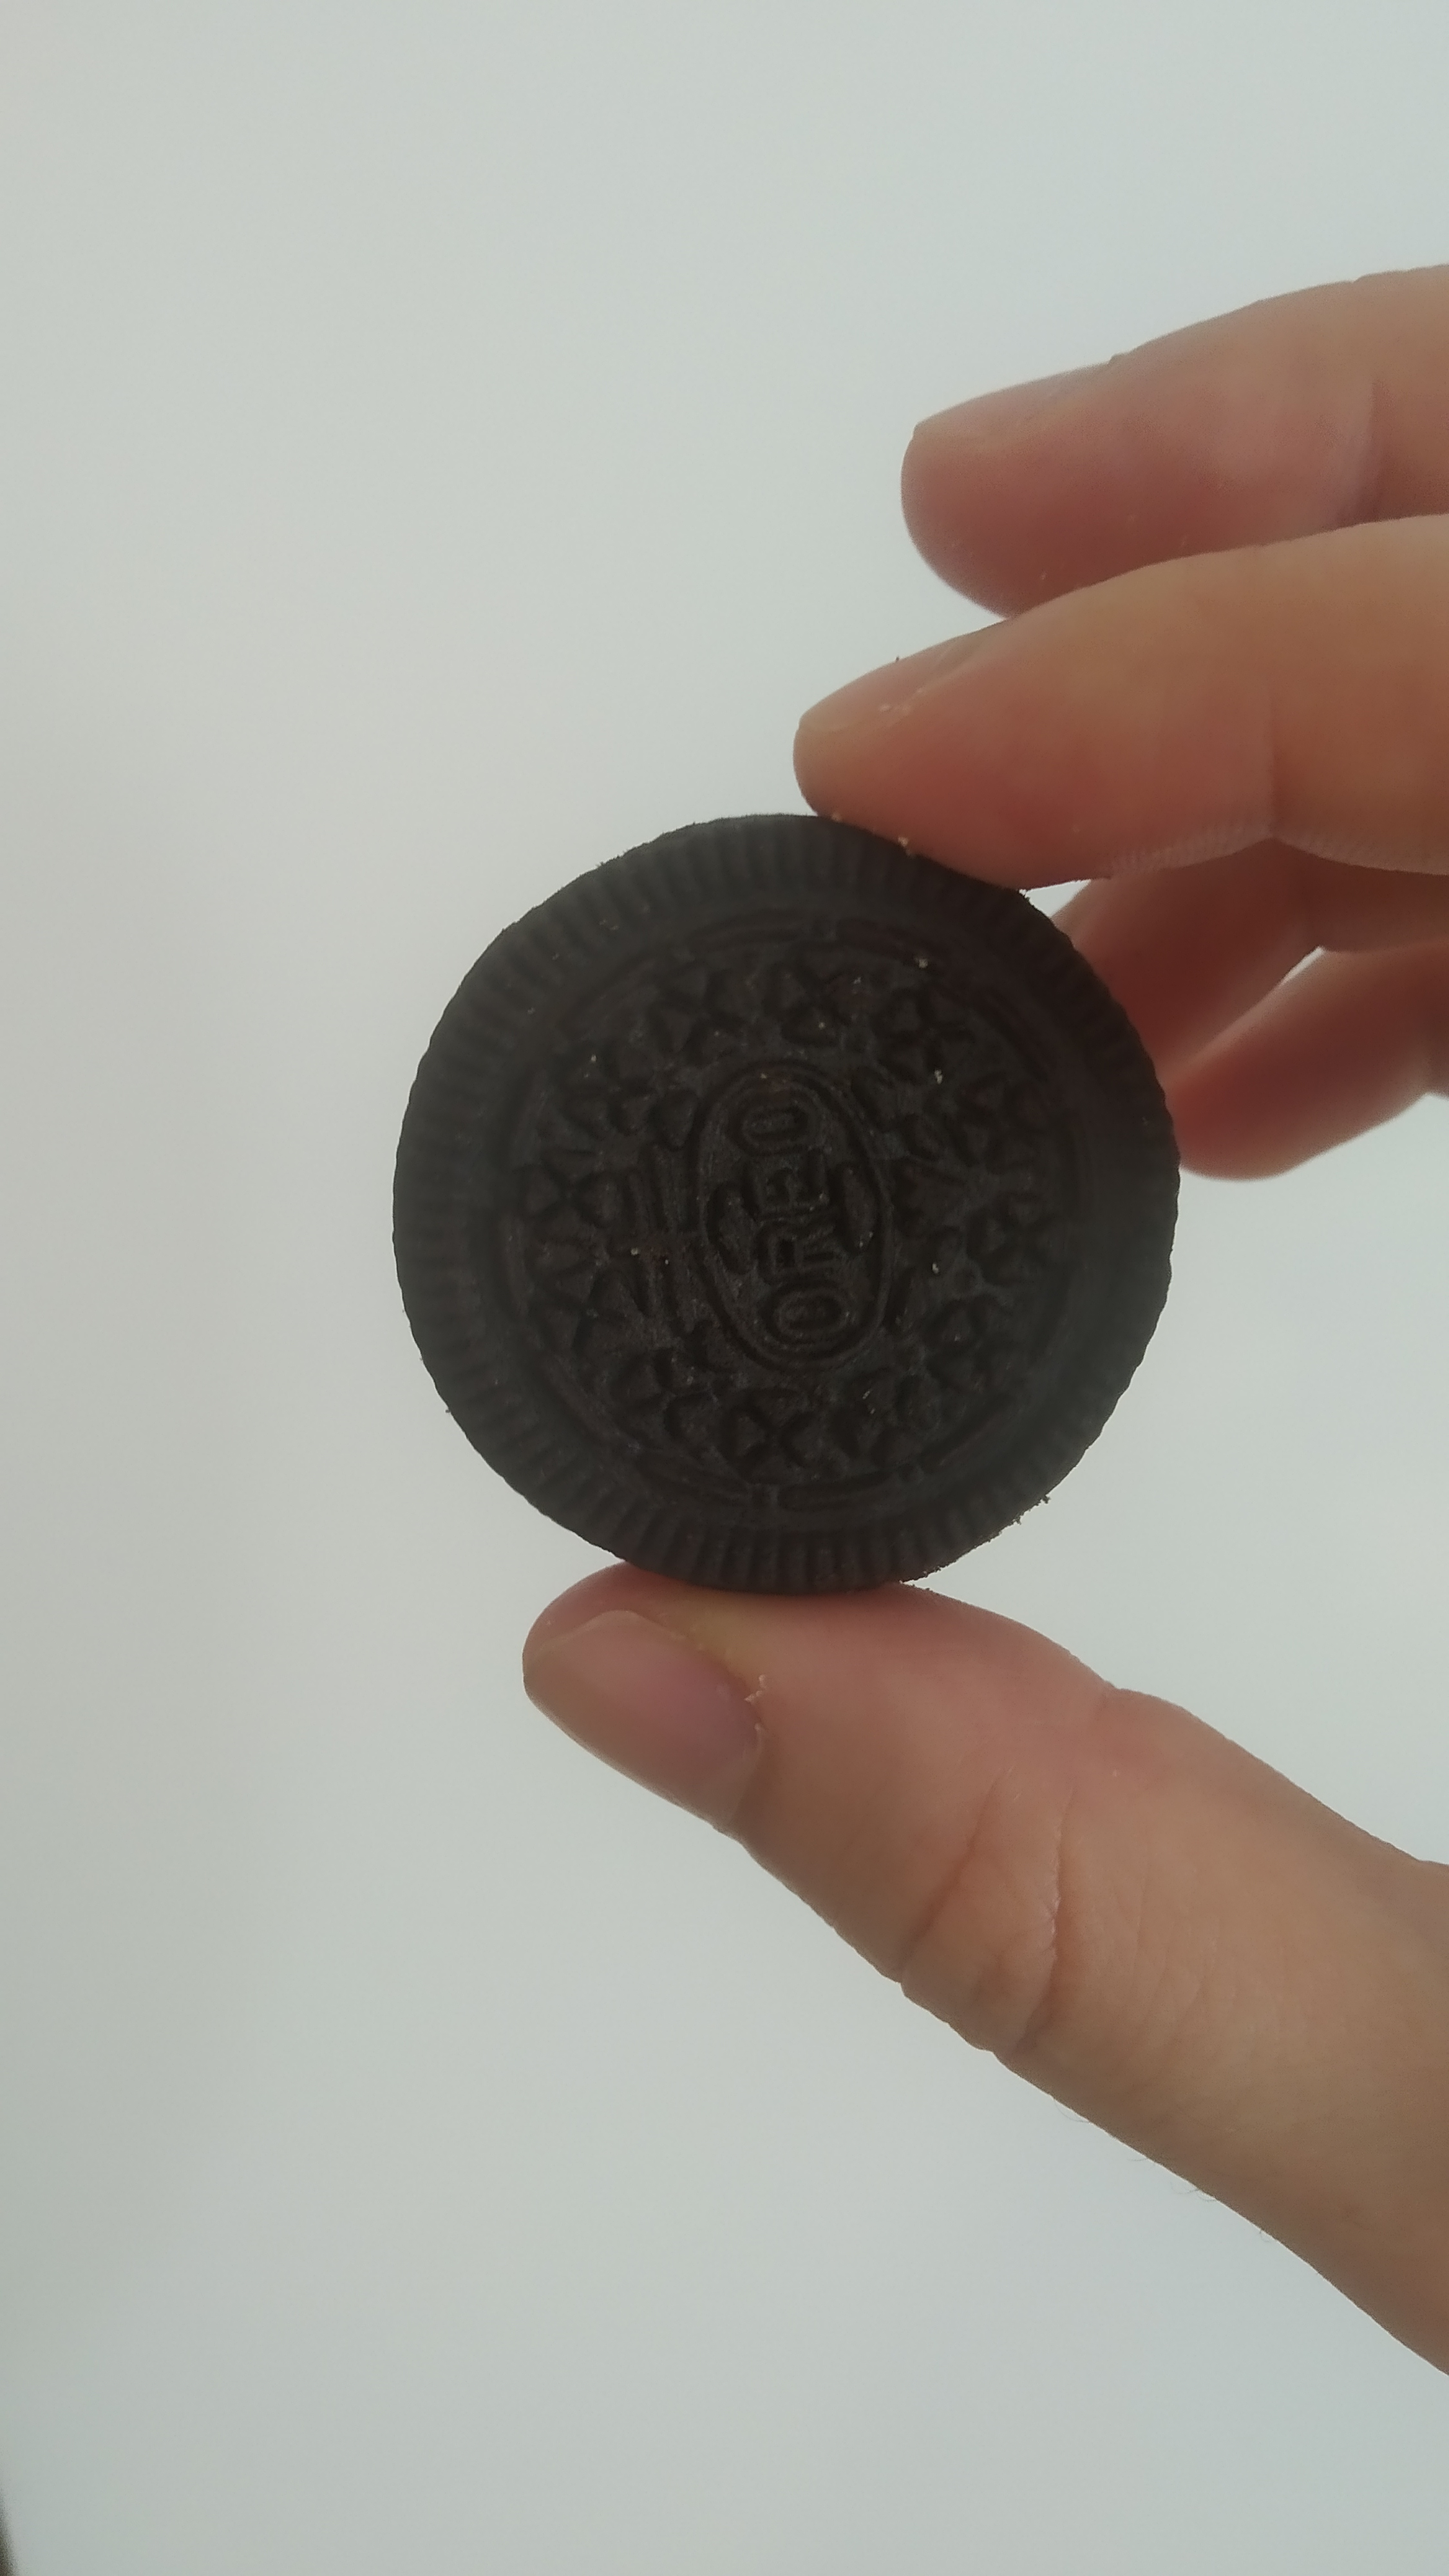oreo: (387, 809, 1189, 1603)
